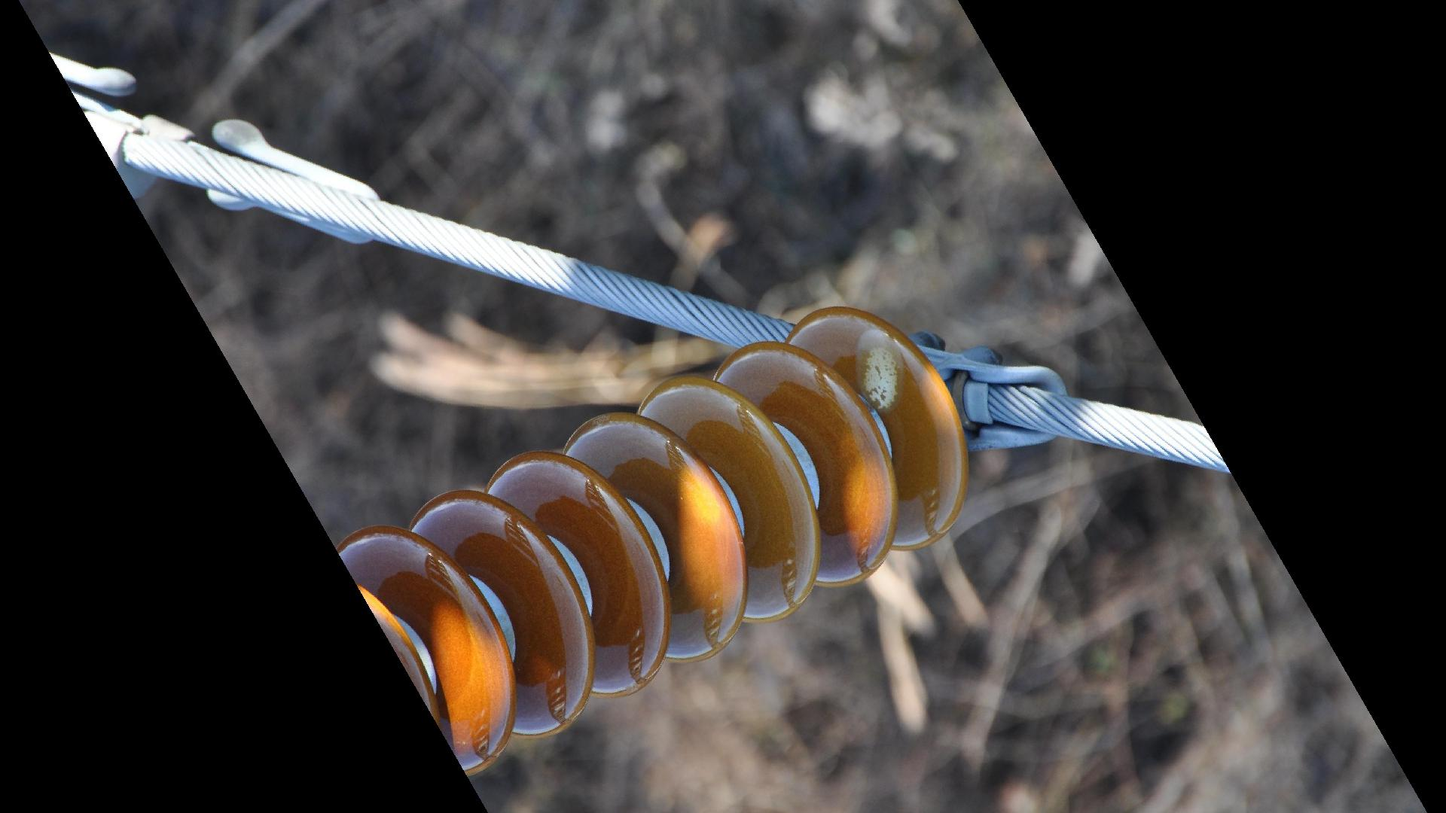insulator: (331, 303, 981, 784)
insulator_flashover: (855, 340, 905, 415)
